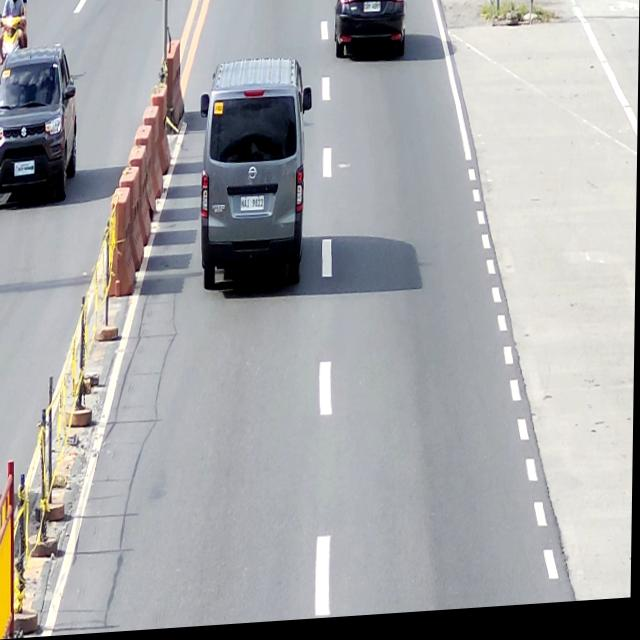Car: (199, 59, 314, 295), (0, 47, 79, 207), (334, 0, 408, 66)
License-Plate: (241, 198, 265, 215), (14, 160, 36, 177), (363, 6, 381, 19)
Motorcycle: (0, 11, 26, 50)
